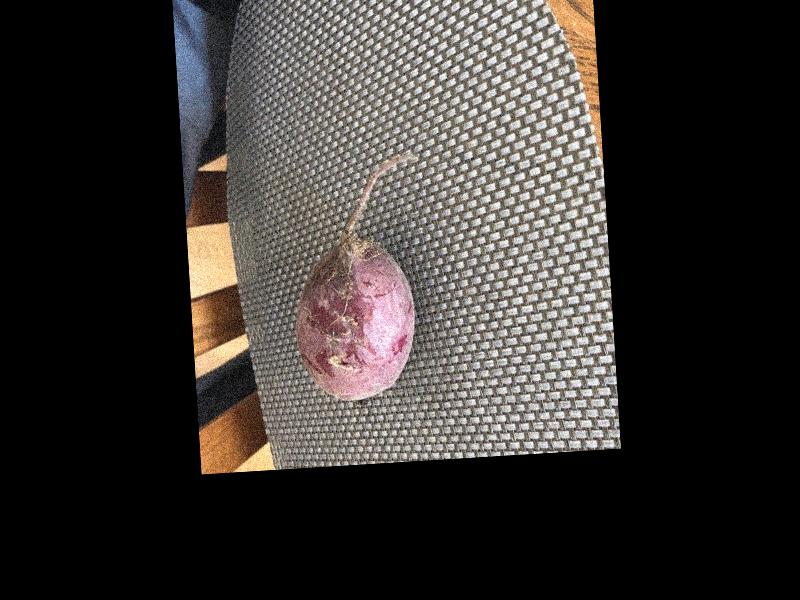Beet: (284, 151, 433, 401)
